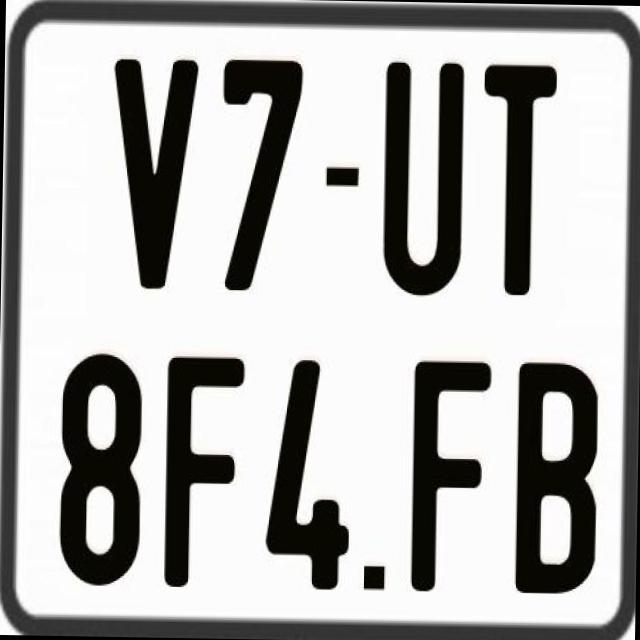4: (260, 355, 352, 594)
7: (216, 59, 304, 294)
8: (58, 351, 149, 593)
B: (516, 358, 602, 600)
F: (161, 352, 246, 590), (408, 361, 490, 598)
T: (476, 61, 554, 302)
U: (379, 62, 462, 303)
V: (112, 59, 205, 298)
